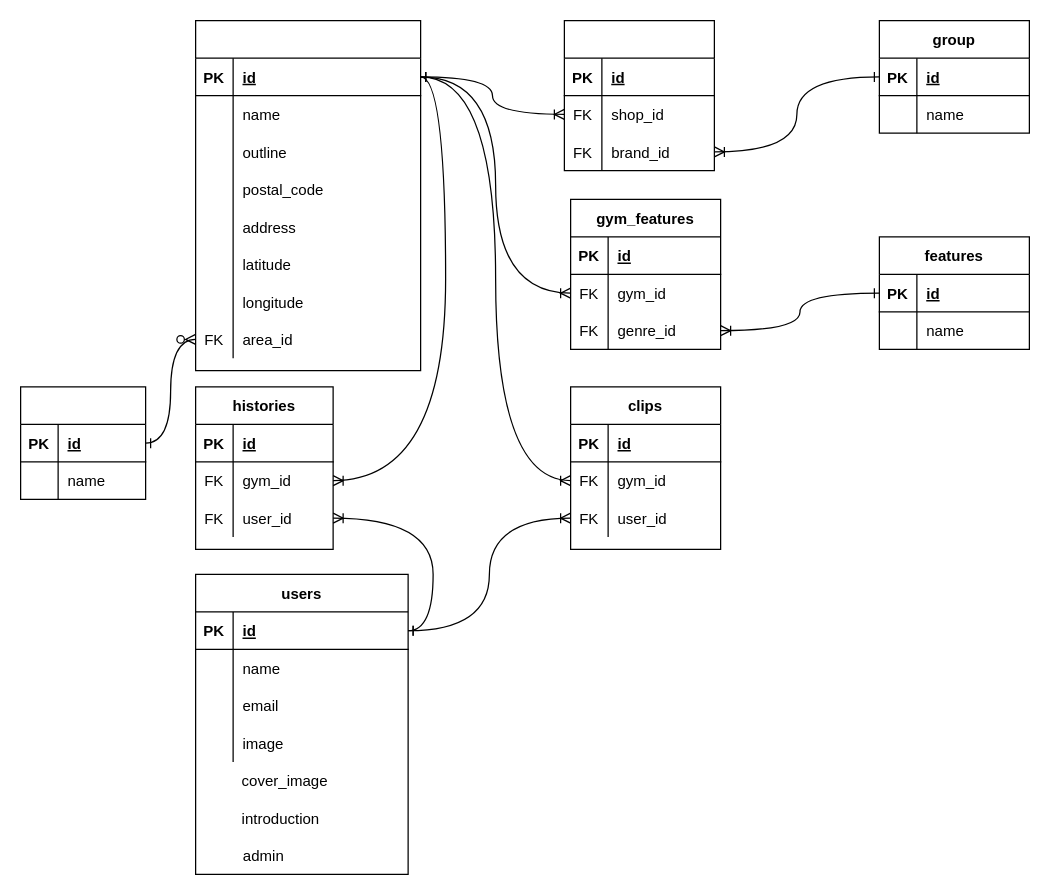
Some shapes in this 1050 by 895 pixel diagram are drawn without their labels. The box of each missing label's shape, as (x1, y1, x2, y2) in pixels:
areas: (19, 386, 146, 499)
gym_groups: (563, 19, 714, 171)
gyms: (194, 19, 421, 371)
